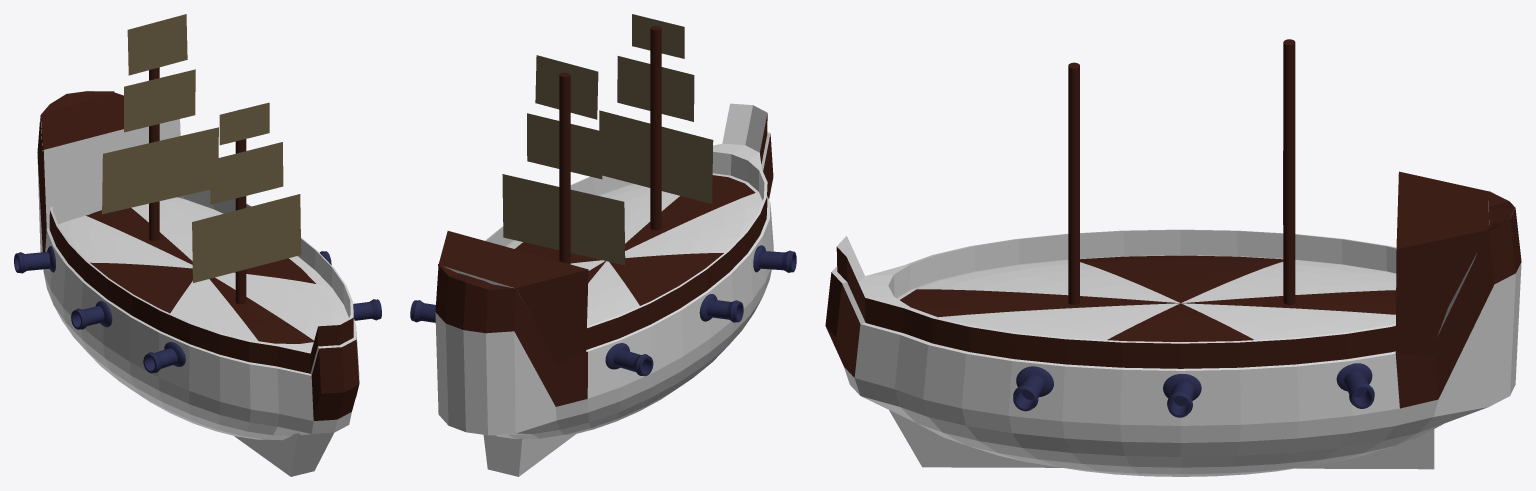
File: boat 2.fbx
3 views of the same model, side by side, from view 1: azimuth 30°, elevation 25°; view 2: azimuth 150°, elevation 25°; view 3: azimuth 270°, elevation 25° (orthographic). The views are drawn at different scales.
Visible parts, largest first — view 1: Sphere, Cube, Plane.001, Plane.002, Plane, Plane.004, Plane.003, Cube.001, Plane.005, Cylinder, Cylinder.001, Cylinder.005 (+4 smaller); view 2: Sphere, Cube, Plane.001, Plane.002, Plane.004, Plane, Plane.003, Cylinder.001, Cube.001, Cylinder, Plane.005, Cylinder.005 (+4 smaller); view 3: Sphere, Cube, Cube.001, Cylinder, Cylinder.001, Cylinder.004, Cylinder.002, Cylinder.003, Icosphere.
Part boxes in pixels (left/top/right/bottom): Sphere: left=37, top=90, right=359, bottom=440; Cube: left=41, top=92, right=180, bottom=228; Plane.001: left=102, top=127, right=218, bottom=214; Plane.002: left=192, top=194, right=301, bottom=282; Plane: left=124, top=69, right=195, bottom=132; Plane.004: left=210, top=142, right=283, bottom=204; Plane.003: left=127, top=14, right=187, bottom=75; Cube.001: left=234, top=432, right=333, bottom=476; Plane.005: left=219, top=102, right=269, bottom=145; Cylinder: left=149, top=67, right=159, bottom=240; Cylinder.001: left=235, top=139, right=246, bottom=304; Cylinder.005: left=14, top=252, right=50, bottom=273; Sphere: left=435, top=103, right=773, bottom=438; Cube: left=439, top=231, right=588, bottom=364; Plane.001: left=502, top=174, right=625, bottom=265; Plane.002: left=599, top=110, right=713, bottom=203; Plane.004: left=617, top=56, right=694, bottom=121; Plane: left=527, top=113, right=602, bottom=179; Plane.003: left=535, top=55, right=598, bottom=119; Cylinder.001: left=650, top=26, right=661, bottom=230; Cube.001: left=483, top=434, right=575, bottom=476; Cylinder: left=559, top=72, right=570, bottom=264; Plane.005: left=632, top=14, right=684, bottom=58; Cylinder.005: left=613, top=349, right=653, bottom=376; Sphere: left=825, top=191, right=1521, bottom=476; Cube: left=1395, top=171, right=1489, bottom=356; Cube.001: left=889, top=410, right=1434, bottom=469; Cylinder: left=1283, top=39, right=1295, bottom=304; Cylinder.001: left=1068, top=62, right=1079, bottom=304; Cylinder.004: left=1344, top=370, right=1374, bottom=408; Cylinder.002: left=1013, top=374, right=1044, bottom=411; Cylinder.003: left=1167, top=381, right=1194, bottom=417; Icosphere: left=1465, top=191, right=1514, bottom=279.
Size of the model in its own units: 792 by 1037 by 1521.
